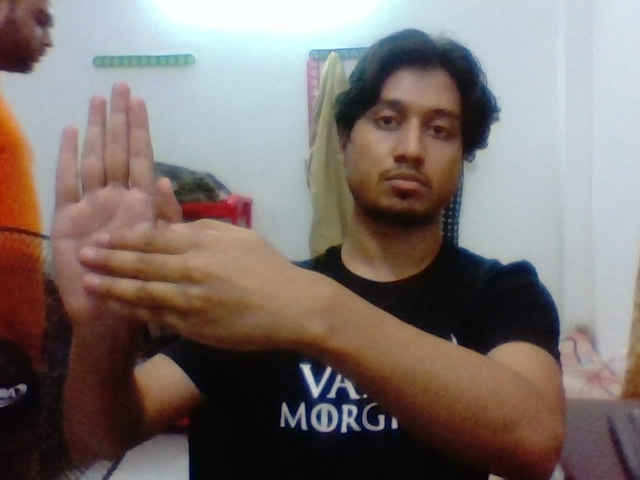H: (47, 70, 270, 358)
